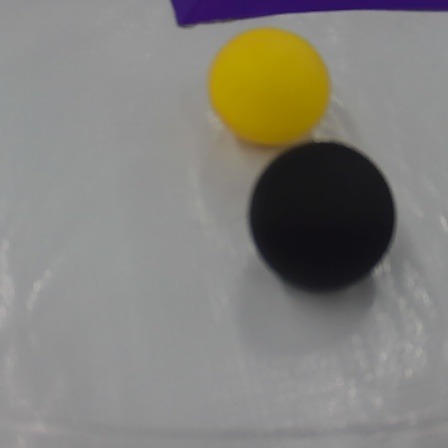black: (244, 136, 399, 300)
yellow: (205, 22, 334, 154)
